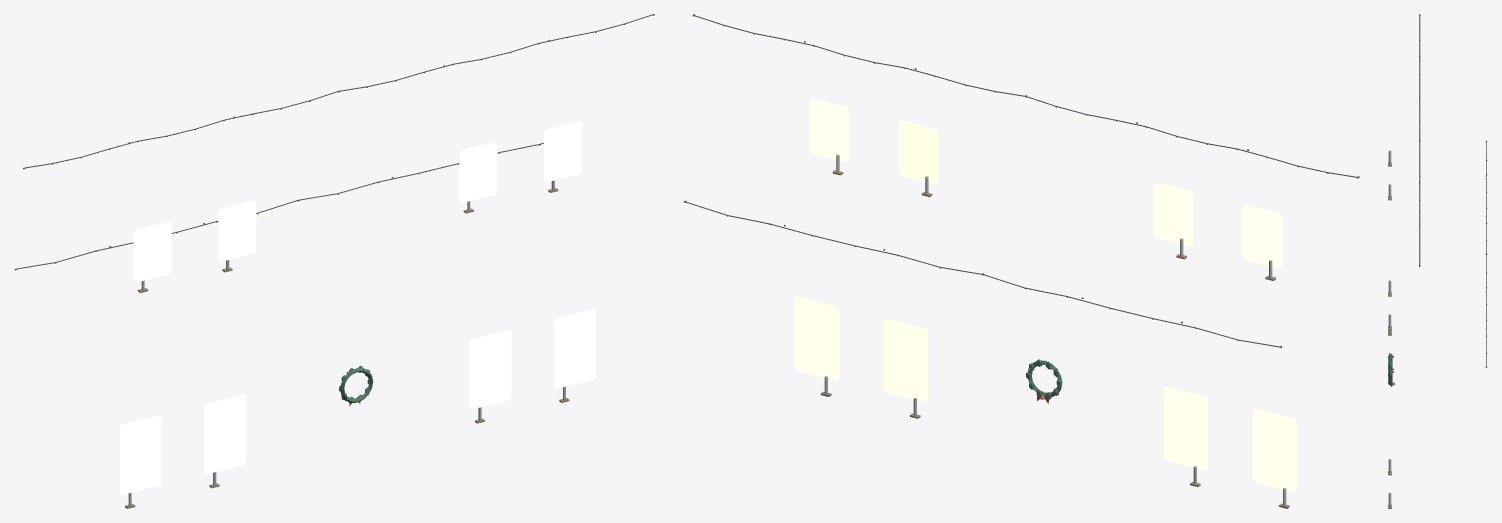
The model's file is house_dress_manor2.glb.
3 views of the same model, side by side, from view 1: azimuth 30°, elevation 25°; view 2: azimuth 150°, elevation 25°; view 3: azimuth 270°, elevation 25° (orthographic). The views are drawn at different scales.
Bounding box in the file's own units: 10.49 × 5.51 × 1.75.
